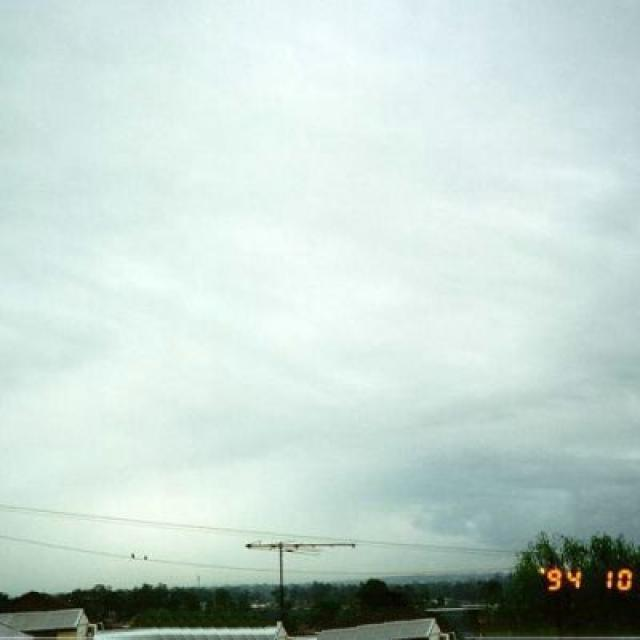Ns: (1, 19, 640, 426)
